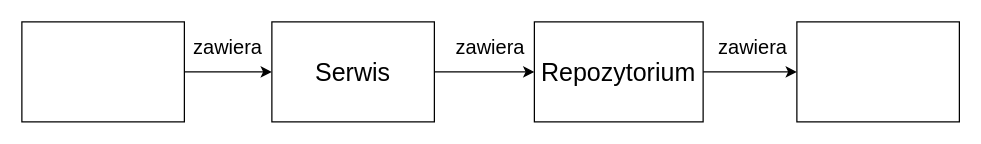
Some shapes in this 981 by 144 pixel diagram are drawn without their labels. The shapes that lost their labels are listed below. From the top down, each one's box as (x1, y1, x2, y2) in pixels, then its label:
(21, 21, 184, 122): Kontroler
(796, 21, 959, 122): Encja
